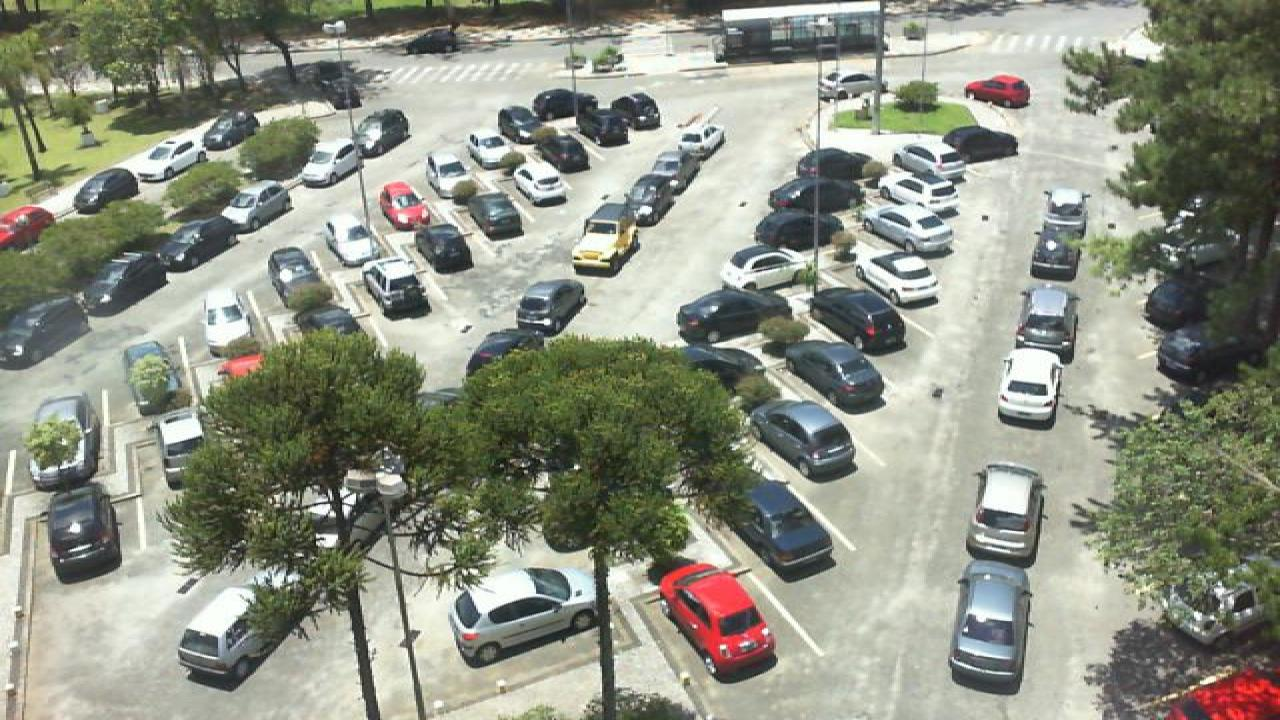Car: (450, 566, 608, 666), (656, 559, 776, 676), (722, 478, 836, 577), (946, 561, 1032, 691), (176, 585, 280, 686), (22, 394, 118, 492), (750, 397, 860, 479), (782, 338, 886, 414), (968, 462, 1044, 565), (46, 486, 122, 580), (676, 287, 788, 345), (812, 285, 906, 353), (996, 346, 1066, 428), (0, 300, 84, 368), (860, 201, 956, 259), (1156, 322, 1240, 386), (82, 254, 168, 315), (570, 202, 640, 274), (720, 244, 824, 292), (122, 338, 184, 418), (858, 248, 940, 306), (1014, 284, 1080, 356), (362, 256, 430, 318), (756, 213, 858, 254), (156, 408, 208, 488), (514, 279, 586, 335), (202, 290, 260, 358), (1142, 274, 1210, 332), (878, 172, 964, 216), (218, 180, 292, 231), (160, 218, 228, 271), (466, 327, 538, 377), (768, 176, 862, 214), (678, 344, 766, 384), (268, 247, 328, 305), (410, 222, 472, 276), (130, 140, 206, 184), (796, 148, 886, 185), (1030, 218, 1082, 282), (70, 168, 140, 214), (324, 215, 382, 269), (302, 137, 362, 187), (892, 144, 970, 181), (944, 124, 1018, 163), (354, 108, 410, 158), (510, 160, 570, 206), (468, 192, 524, 241), (378, 181, 432, 231), (624, 172, 674, 225), (0, 205, 56, 251), (426, 150, 478, 196), (200, 109, 256, 151), (530, 133, 588, 173), (964, 74, 1030, 108), (816, 70, 888, 100), (650, 146, 696, 192), (674, 121, 726, 161), (468, 134, 522, 171), (576, 109, 630, 146), (1044, 187, 1088, 232), (542, 88, 600, 119), (498, 105, 542, 144), (612, 92, 660, 127)
